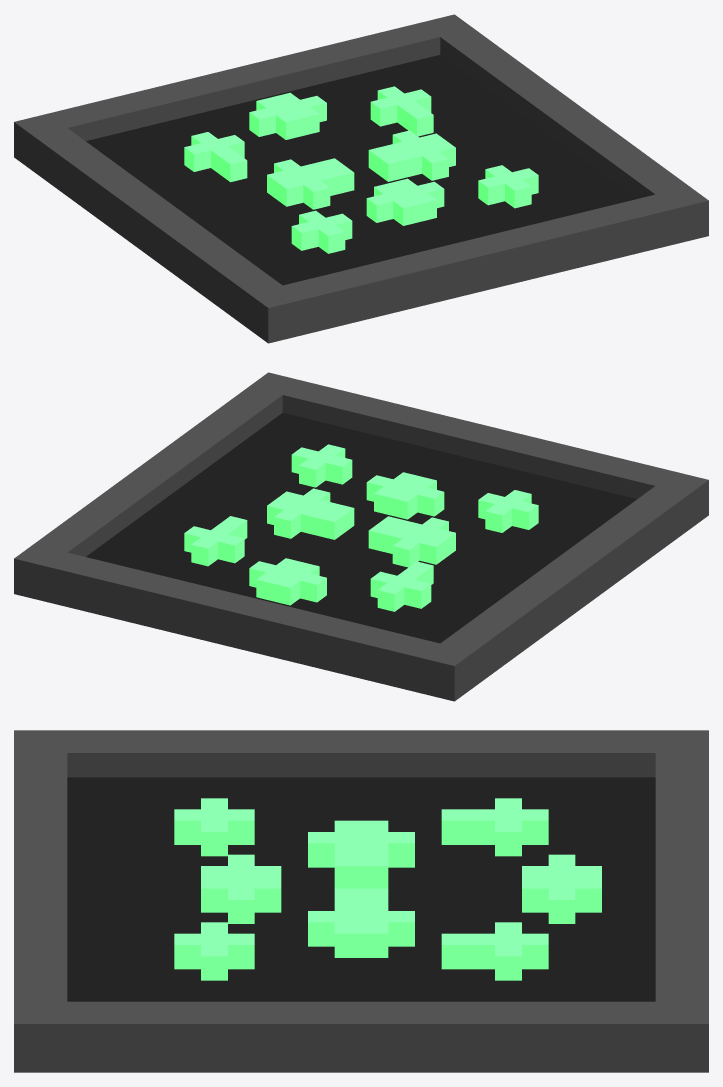
File: trap_STARS_GREEN.glb
3 renders of one model, top to bottom at view 1: azimuth 30°, elevation 25°; view 2: azimuth 150°, elevation 25°; view 3: azimuth 270°, elevation 25°, orthographic. The views are drawn at different scales.
Visible parts, largest first — view 1: item_TRAP_STARS_GREEN; view 2: item_TRAP_STARS_GREEN; view 3: item_TRAP_STARS_GREEN.
Boxes of the visible parts, bbox=[...] form: item_TRAP_STARS_GREEN: bbox=[14, 14, 708, 343]; item_TRAP_STARS_GREEN: bbox=[14, 372, 708, 701]; item_TRAP_STARS_GREEN: bbox=[14, 730, 708, 1072].
Bounding box in the file's own units: 0.5909 × 0.0455 × 0.5909.
Materials: 1 (1 with a texture image).
